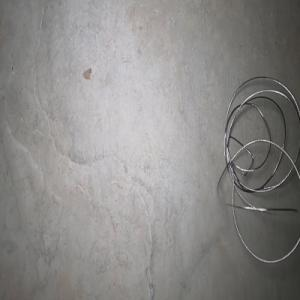Wire: (216, 75, 300, 263)
